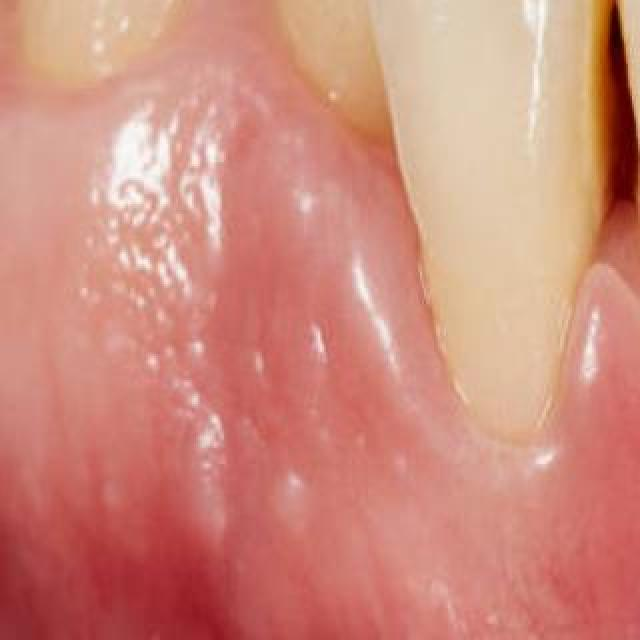calculus: (562, 0, 640, 302)
maligned: (368, 0, 606, 396), (238, 0, 538, 166), (610, 0, 640, 330)
